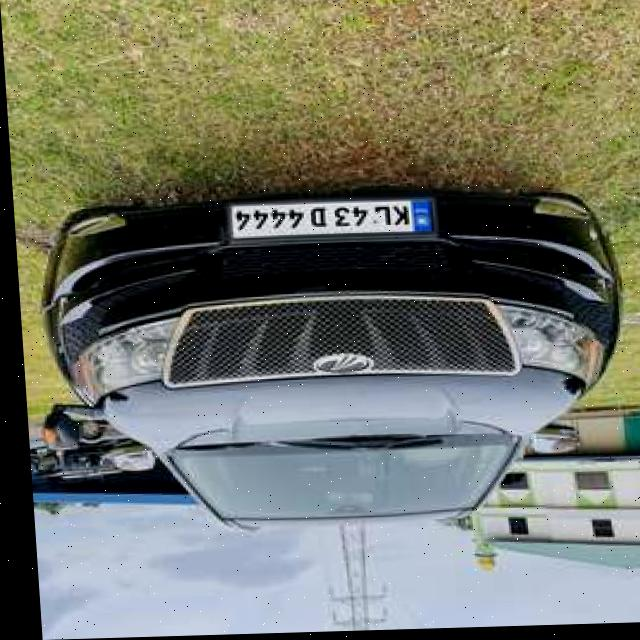plate: (221, 199, 435, 245)
